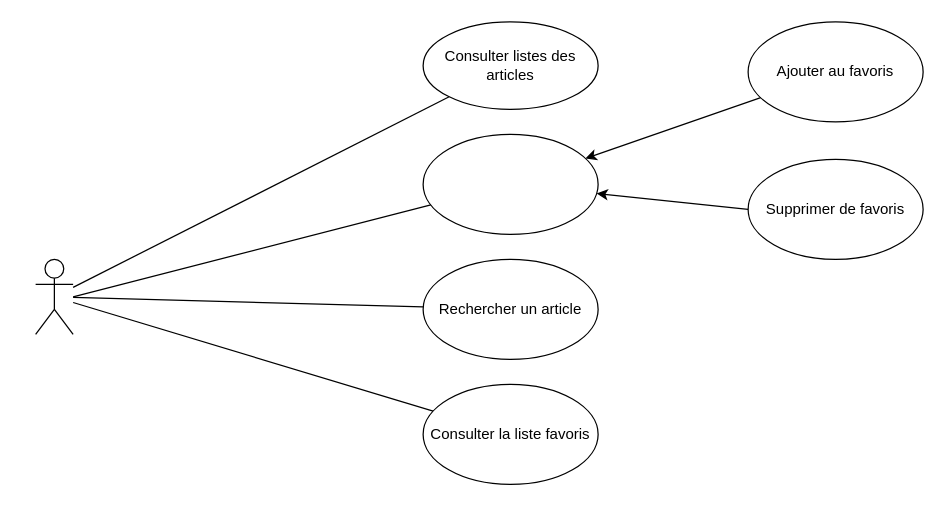
This 945x506 diagram has some shape labels left out. Here are the shapes that lost their labels. From the top down, the centre of each, then its label:
pixel 510 183: Afficher un article
pixel 53 296: Utilisateur
